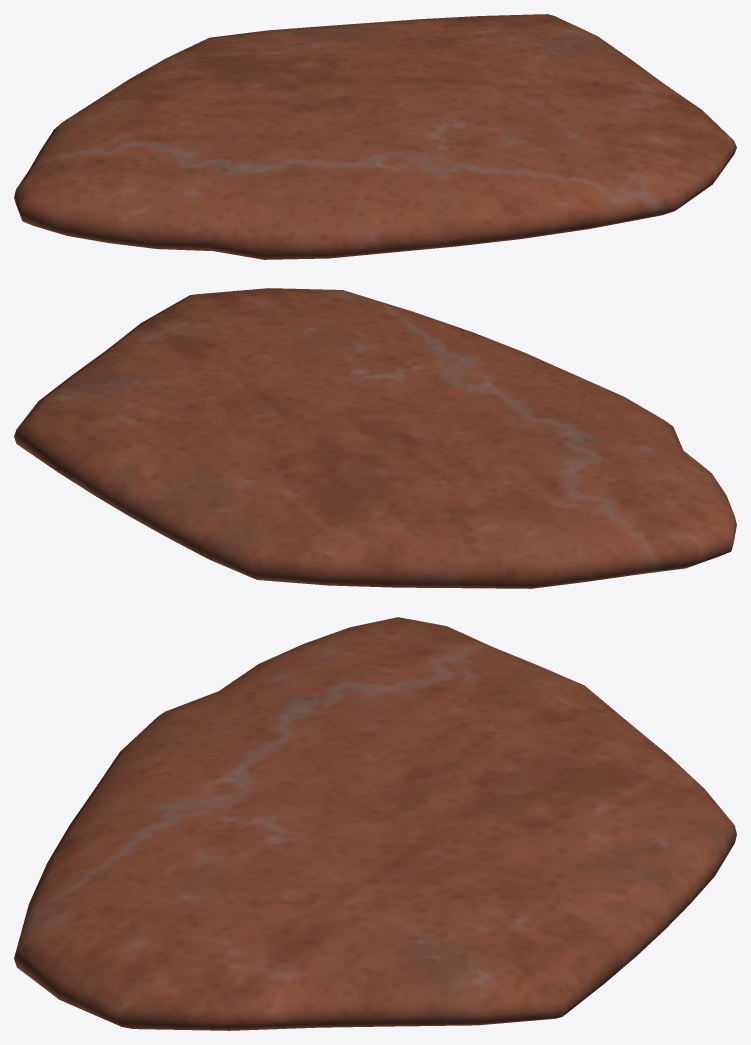
Rendered from small_wafer_06.glb.
The picture shows the model from 3 angles, top to bottom: view 1: azimuth 30°, elevation 25°; view 2: azimuth 150°, elevation 25°; view 3: azimuth 270°, elevation 25°; orthographic projection. The views are drawn at different scales.
Visible parts, largest first — view 1: small_wafer_06; view 2: small_wafer_06; view 3: small_wafer_06.
Part boxes in pixels (bbox=[...]): small_wafer_06: bbox=[14, 14, 736, 259]; small_wafer_06: bbox=[14, 288, 736, 588]; small_wafer_06: bbox=[14, 617, 736, 1030].
Bounding box in the file's own units: 0.0567 × 0.00576 × 0.0444.
1 material, 1 textured.
